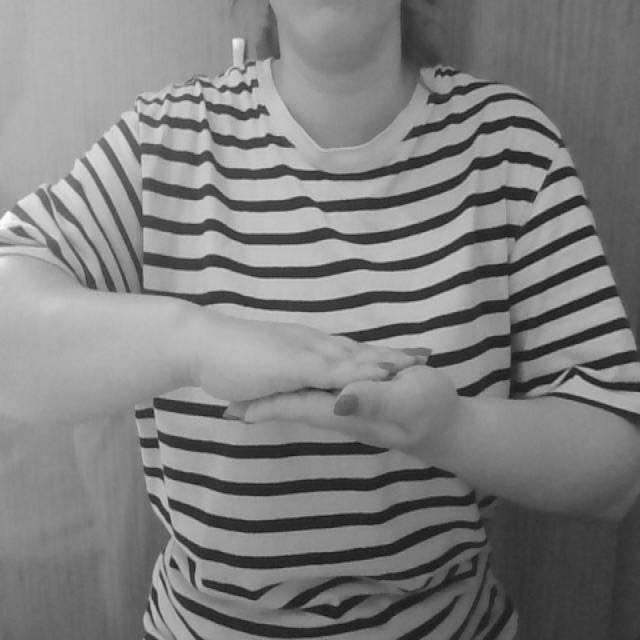Arkadas: (154, 269, 473, 472)
